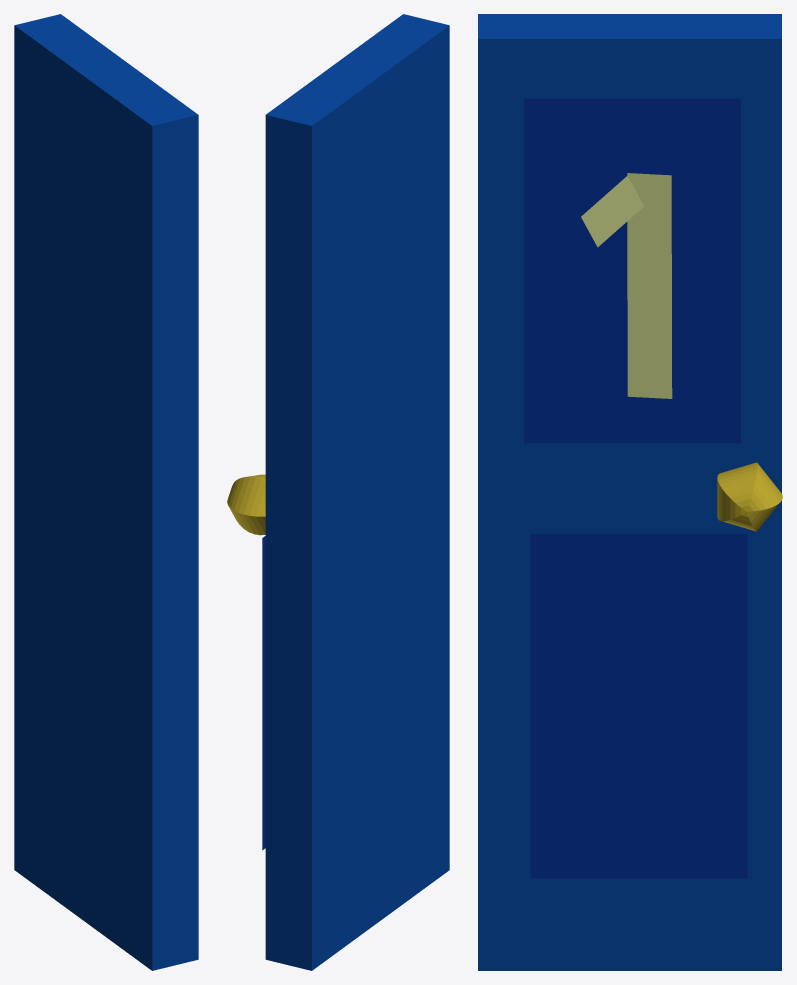
The model's file is Door1.glb.
3 renders of one model, left to right at view 1: azimuth 30°, elevation 25°; view 2: azimuth 150°, elevation 25°; view 3: azimuth 270°, elevation 25°, orthographic. The views are drawn at different scales.
Visible parts, largest first — view 1: Cube; view 2: Cube, Sphere, Plane.001; view 3: Plane.001, Cube, Plane, Sphere.
Boxes of the visible parts, x1,y1,x2,y2 form: Cube: (14,14,198,970); Cube: (265,14,449,970); Sphere: (227,474,265,535); Plane.001: (262,536,265,850); Plane.001: (524,98,747,878); Cube: (478,14,781,970); Plane: (581,173,672,398); Sphere: (717,462,782,531).
Size of the model in its own units: 0.0513 by 0.4296 by 0.1273.
